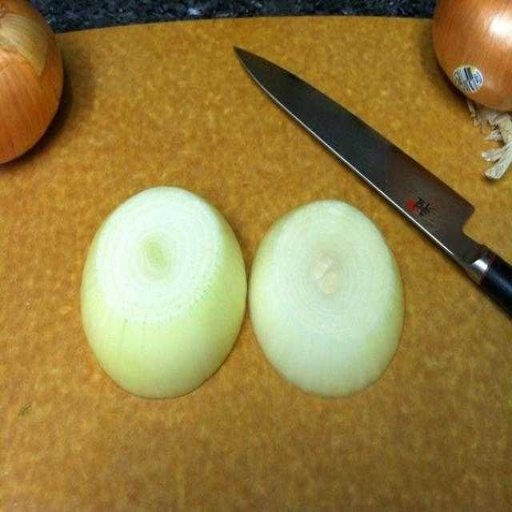Zwiebel: (80, 186, 247, 398), (247, 199, 404, 397)
